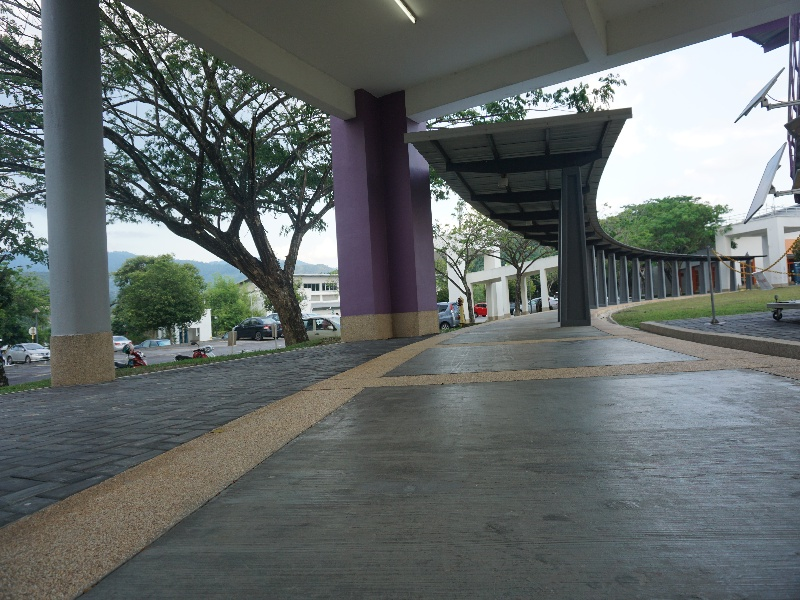Block D Pillar 6: (4, 2, 800, 499)
pillar: (23, 3, 132, 401), (333, 85, 442, 356), (554, 156, 595, 332)
